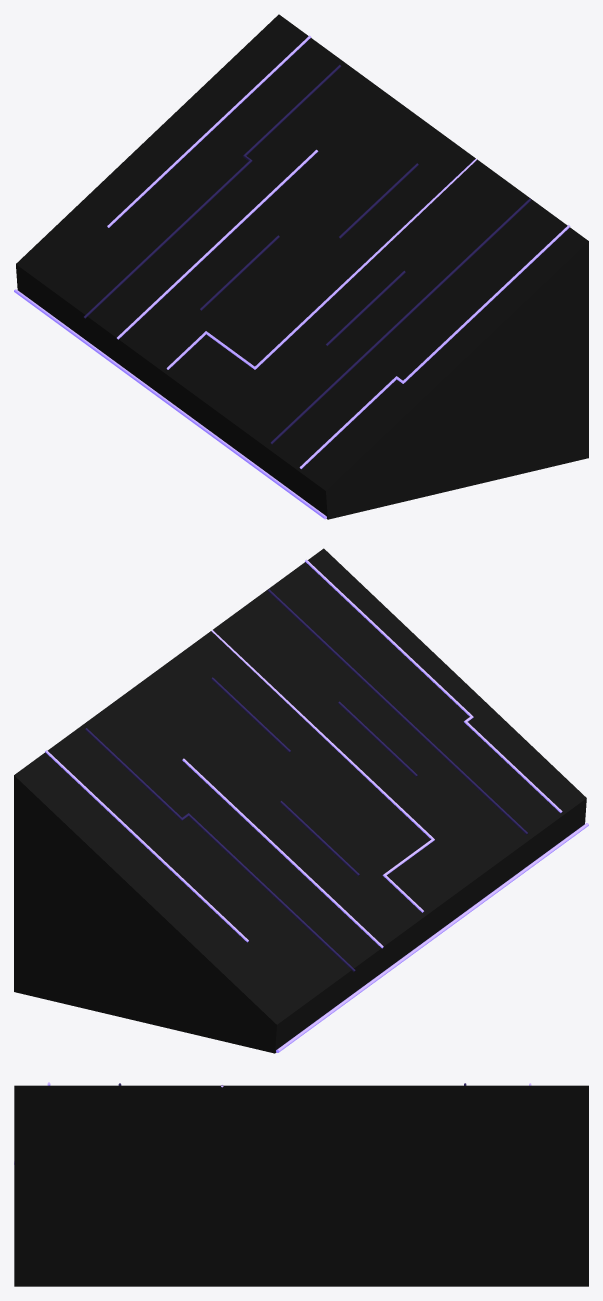
Rendered from Trench A.fbx.
3 views of the same model, one above another, from view 1: azimuth 30°, elevation 25°; view 2: azimuth 150°, elevation 25°; view 3: azimuth 270°, elevation 25° (orthographic). The views are drawn at different scales.
Visible parts, largest first — view 1: Extrude, Cap_1_10, Cylinder, Sweep_4, Sweep_8, Sweep_1, Sweep_6, Sweep, Sweep_2; view 2: Extrude, Cap_2_10, Cylinder, Sweep_4, Sweep_8, Sweep_1, Sweep_6, Sweep, Sweep_2; view 3: Extrude.
Part boxes in pixels (x1,y1,x2,y2): Extrude: [16, 14, 588, 519]; Cap_1_10: [326, 241, 588, 519]; Cylinder: [14, 289, 326, 519]; Sweep_4: [167, 159, 476, 369]; Sweep_8: [300, 225, 570, 468]; Sweep_1: [84, 64, 341, 318]; Sweep_6: [271, 198, 531, 444]; Sweep: [107, 35, 311, 227]; Sweep_2: [117, 149, 318, 339]; Extrude: [14, 548, 586, 1053]; Cap_2_10: [14, 775, 276, 1053]; Cylinder: [276, 823, 588, 1052]; Sweep_4: [211, 630, 434, 912]; Sweep_8: [305, 559, 562, 812]; Sweep_1: [85, 728, 355, 971]; Sweep_6: [267, 589, 527, 834]; Sweep: [45, 750, 248, 941]; Sweep_2: [182, 758, 383, 947]; Extrude: [14, 1085, 588, 1286].
Size of the model in its own units: 3507 by 2738 by 7004.
